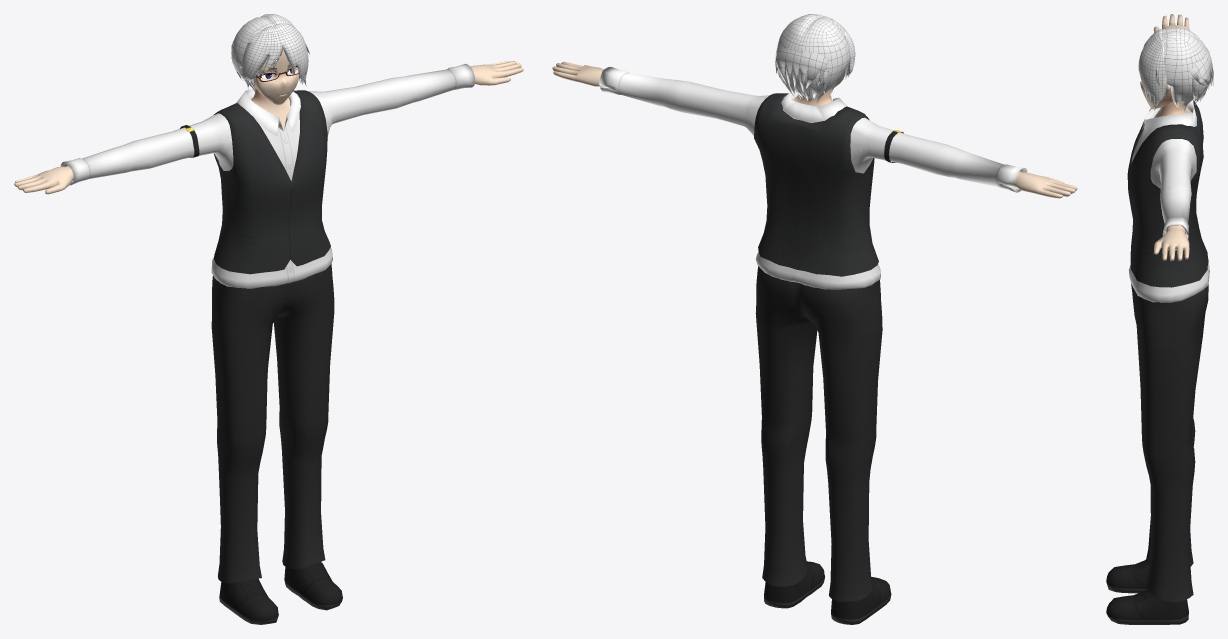
File: man.obj
3 views of the same model, side by side, from view 1: azimuth 30°, elevation 25°; view 2: azimuth 150°, elevation 25°; view 3: azimuth 270°, elevation 25° (orthographic). The views are drawn at different scales.
Parts seen in each view (by area): view 1: pants, vest, shirt, body, front_hair, head, back_hair; view 2: pants, vest, shirt, back_hair, front_hair, body; view 3: pants, vest, shirt, front_hair, back_hair, body, head.
Boxes of the visible parts, bbox=[...] form: pants: bbox=[211, 264, 342, 624]; vest: bbox=[214, 90, 330, 274]; shirt: bbox=[60, 63, 474, 288]; body: bbox=[14, 60, 523, 584]; front_hair: bbox=[231, 23, 309, 85]; head: bbox=[247, 49, 298, 105]; back_hair: bbox=[231, 14, 295, 91]; pants: bbox=[755, 266, 891, 624]; vest: bbox=[754, 93, 878, 276]; shirt: bbox=[599, 66, 1027, 289]; back_hair: bbox=[778, 14, 849, 102]; front_hair: bbox=[775, 14, 855, 100]; body: bbox=[552, 61, 1077, 455]; pants: bbox=[1106, 283, 1208, 624]; vest: bbox=[1127, 100, 1208, 287]; shirt: bbox=[1128, 100, 1209, 302]; front_hair: bbox=[1138, 29, 1213, 110]; back_hair: bbox=[1162, 27, 1207, 111]; body: bbox=[1153, 14, 1191, 601]; head: bbox=[1140, 81, 1172, 109].
Bounding box in the file's own units: 1.49 × 1.63 × 0.2774.
